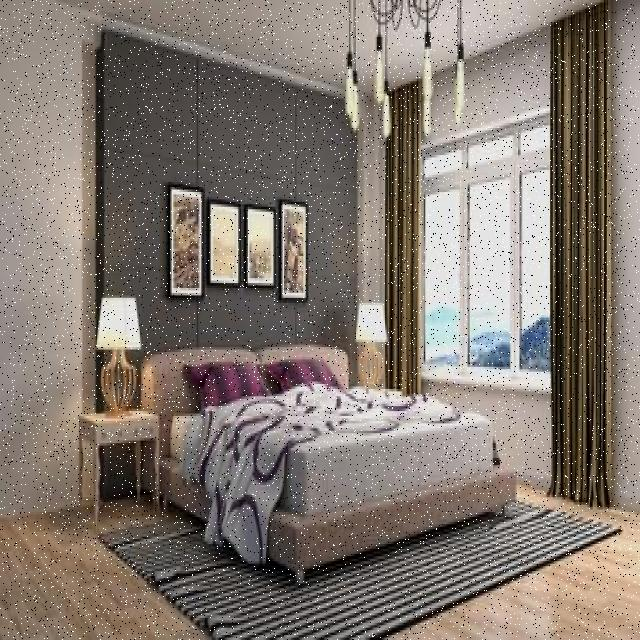bed: (151, 345, 495, 532)
